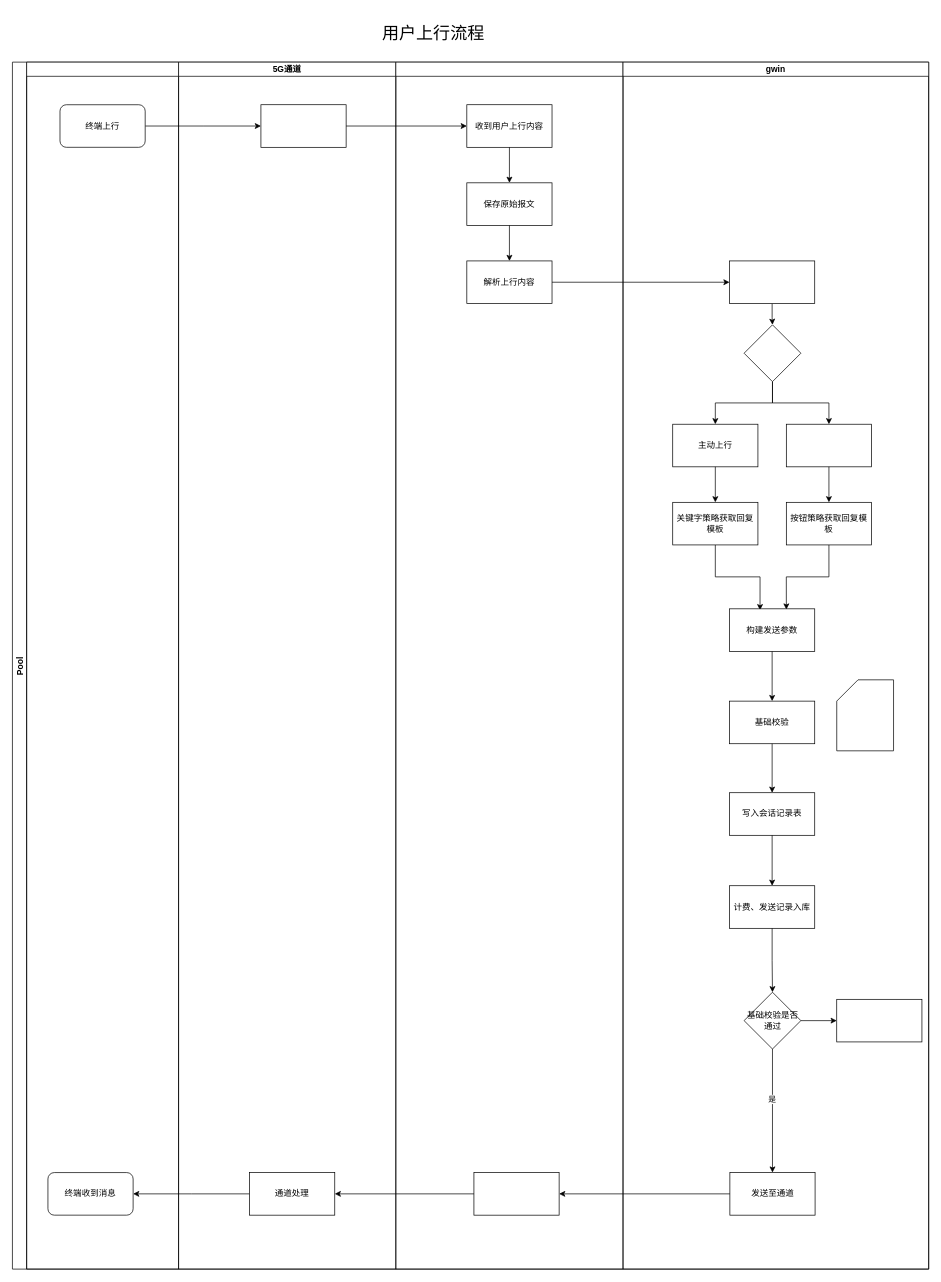
The diagram is 941 pixels wide and 1282 high, and some of its shapes have lost their labels. The shapes that lost their labels are listed below. From the top down, each one's box as (x1, y1, x2, y2) in pixels, then its label:
(260, 104, 346, 147): 通道业务处理
(729, 260, 815, 304): 收到上行内容开始自动回复
(743, 324, 801, 382): 判断类型
(786, 424, 872, 467): 按钮触发
(26, 61, 179, 1269): 终端
(395, 61, 623, 1269): chout
(836, 679, 894, 751): 模板合法性；号码合法性；账号合法性；
(836, 999, 922, 1042): 写入失败回执
(473, 1172, 559, 1215): 构建通道交互消息发送参数
